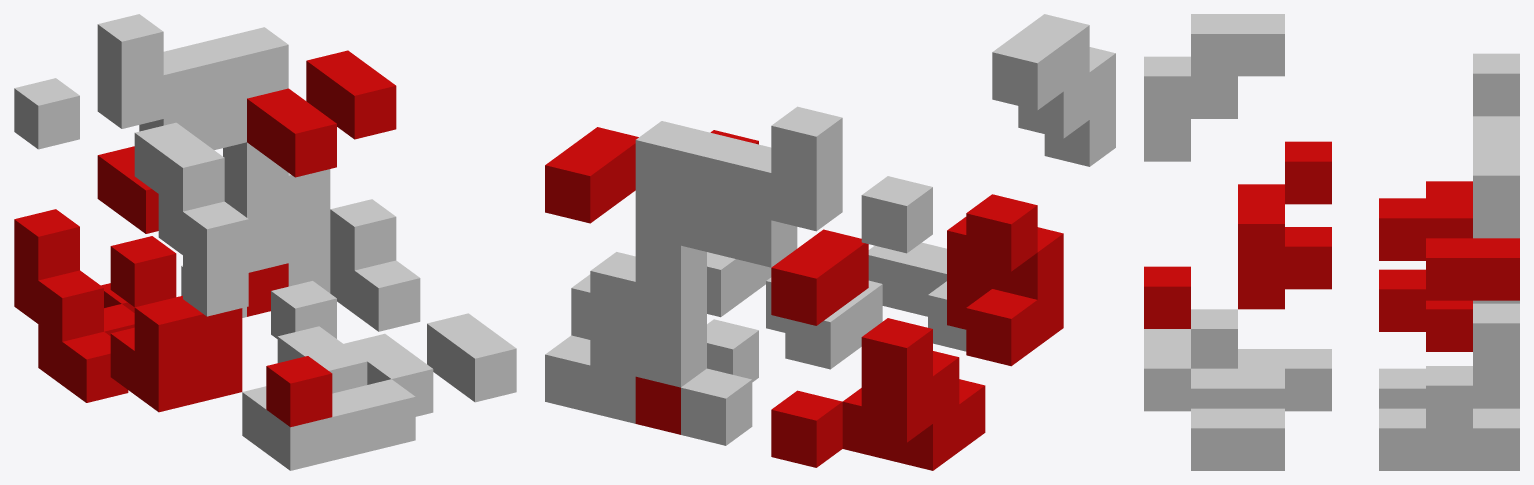
3 renders of one model, left to right at view 1: azimuth 30°, elevation 25°; view 2: azimuth 150°, elevation 25°; view 3: azimuth 270°, elevation 25°, orthographic. The views are drawn at different scales.
Visible parts, largest first — view 1: abc; view 2: abc; view 3: abc.
Boxes of the visible parts, x1=… form: abc: x1=14, y1=14, x2=516, y2=470; abc: x1=545, y1=14, x2=1115, y2=470; abc: x1=1144, y1=14, x2=1519, y2=470.
Size of the model in its own units: 2.6 by 2.27 by 2.6.
